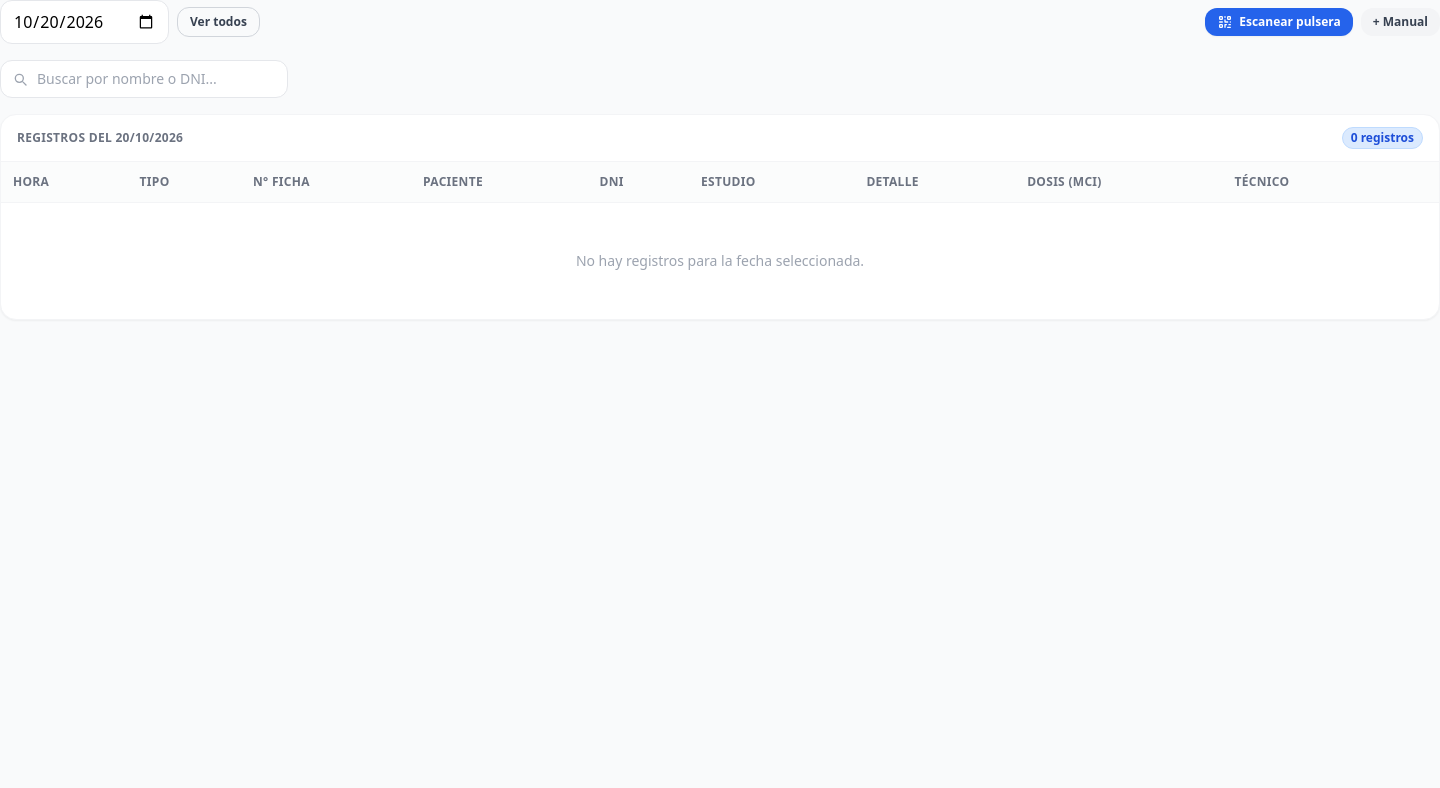
Scenario: TabPacientes -- 'No requiere marcación de radiofármaco' (CasilleroExcepcion): sólo el cuadradito activa la excepción › restauración válida: tildar y destildar sin cambiar nada más devuelve el radiofármaco y el lote elegidos
Click the button "+ Manual" at (1400,22), box top-left (1361, 8), bottom-right (1439, 36)
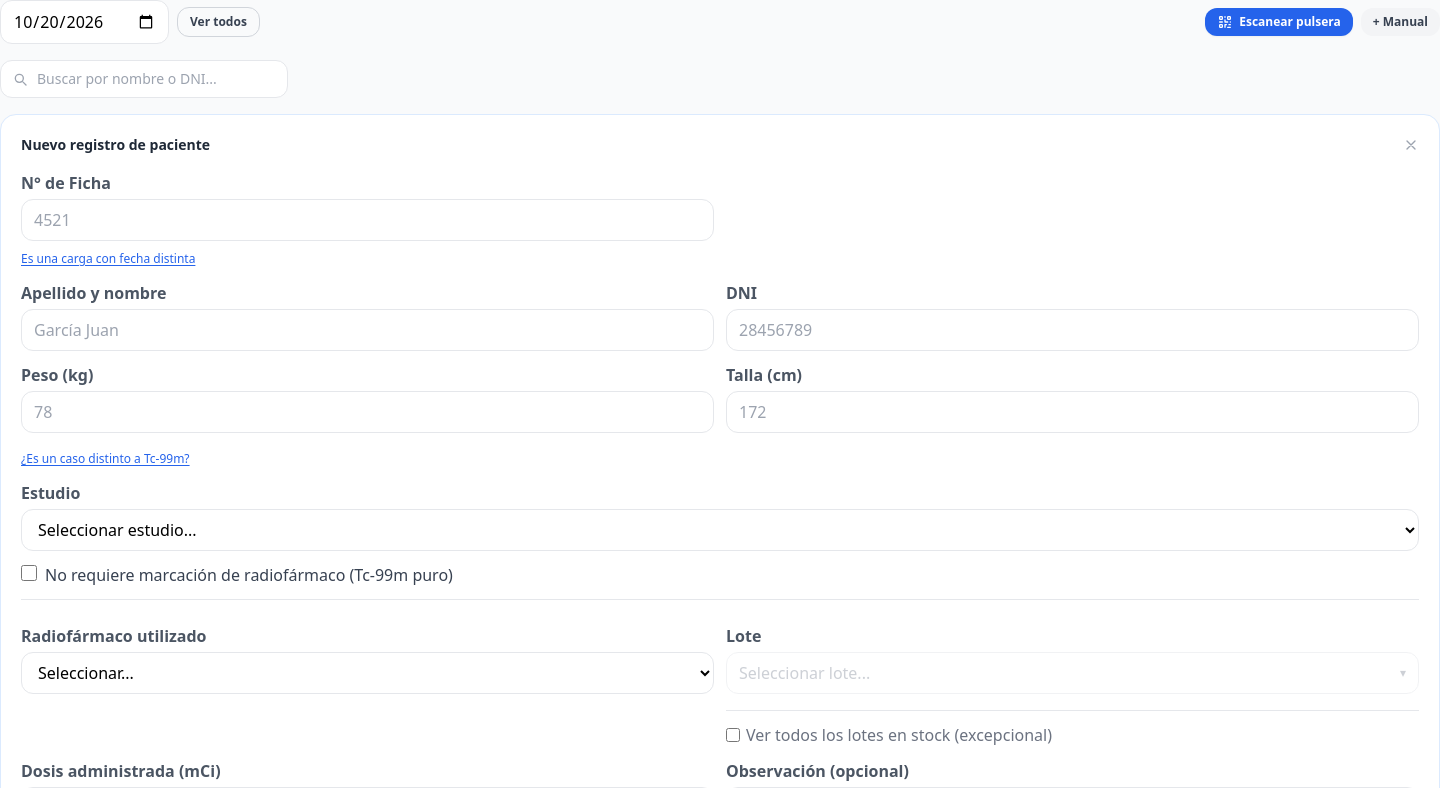
Select "MIBI (Sestamibi)" in the dropdown below "Radiofármaco utilizado" at (368,673), box top-left (21, 652), bottom-right (714, 694)
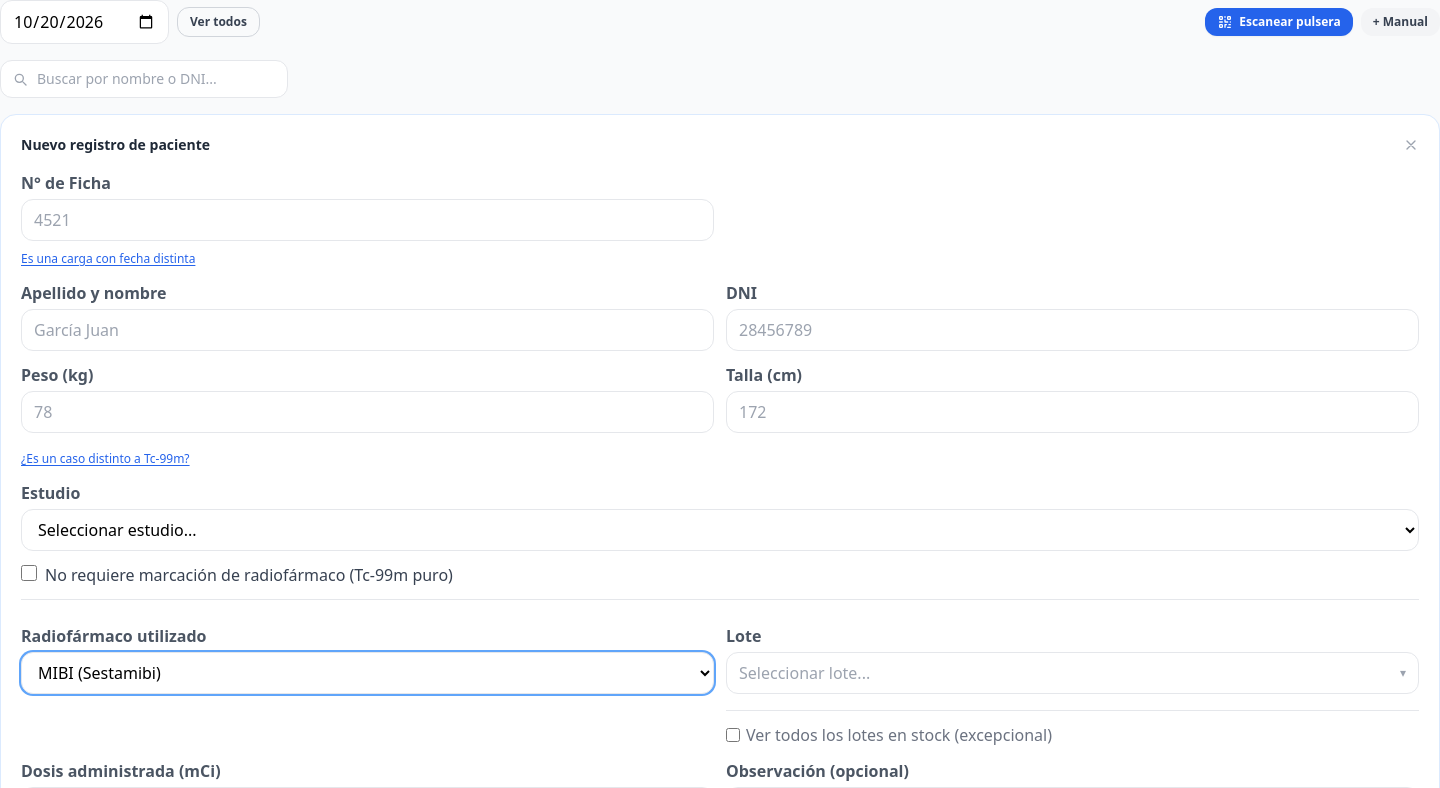
Click the dropdown labelled "lote" at (805,673), box top-left (726, 652), bottom-right (1419, 694)
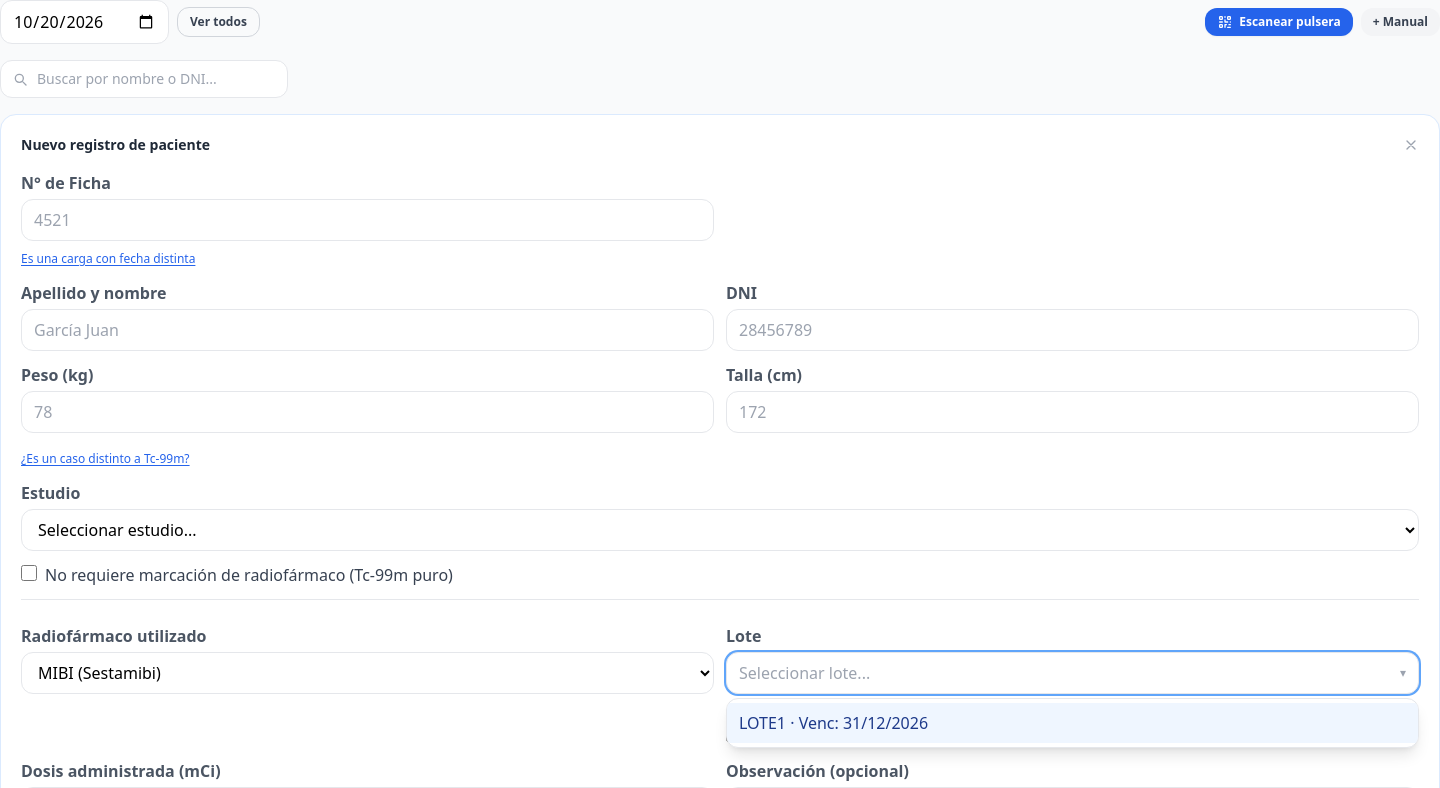
Click the option "LOTE1 · Venc: 31/12/2026" at (834,723), box top-left (727, 703), bottom-right (1418, 743)
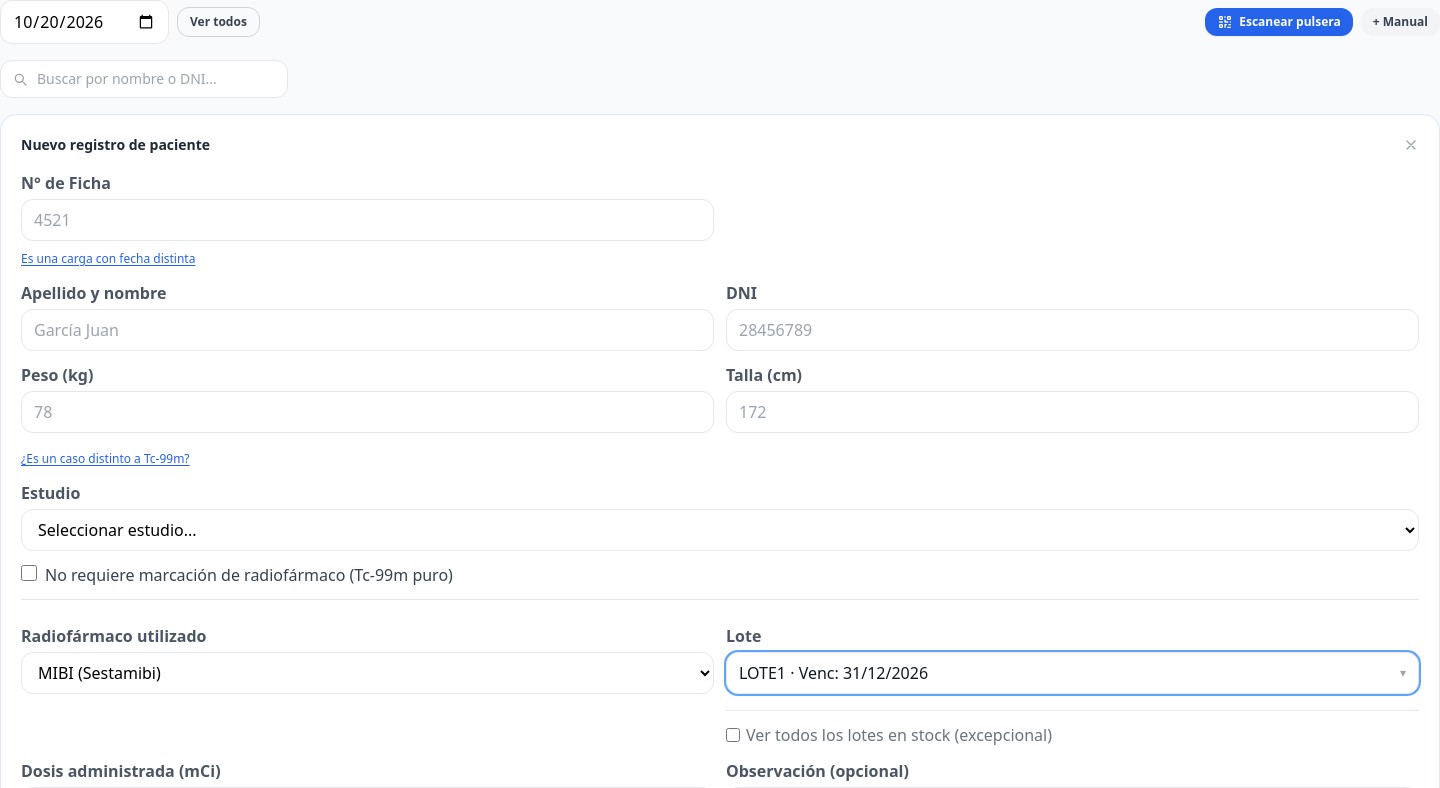
Expected: the dropdown labelled "LOTE" shows "LOTE1", top-left (726, 652), bottom-right (1419, 694)
Click the checkbox named "No requiere marcación de radiofármaco (Tc-99m puro)" at (29,573), box top-left (21, 565), bottom-right (37, 581)
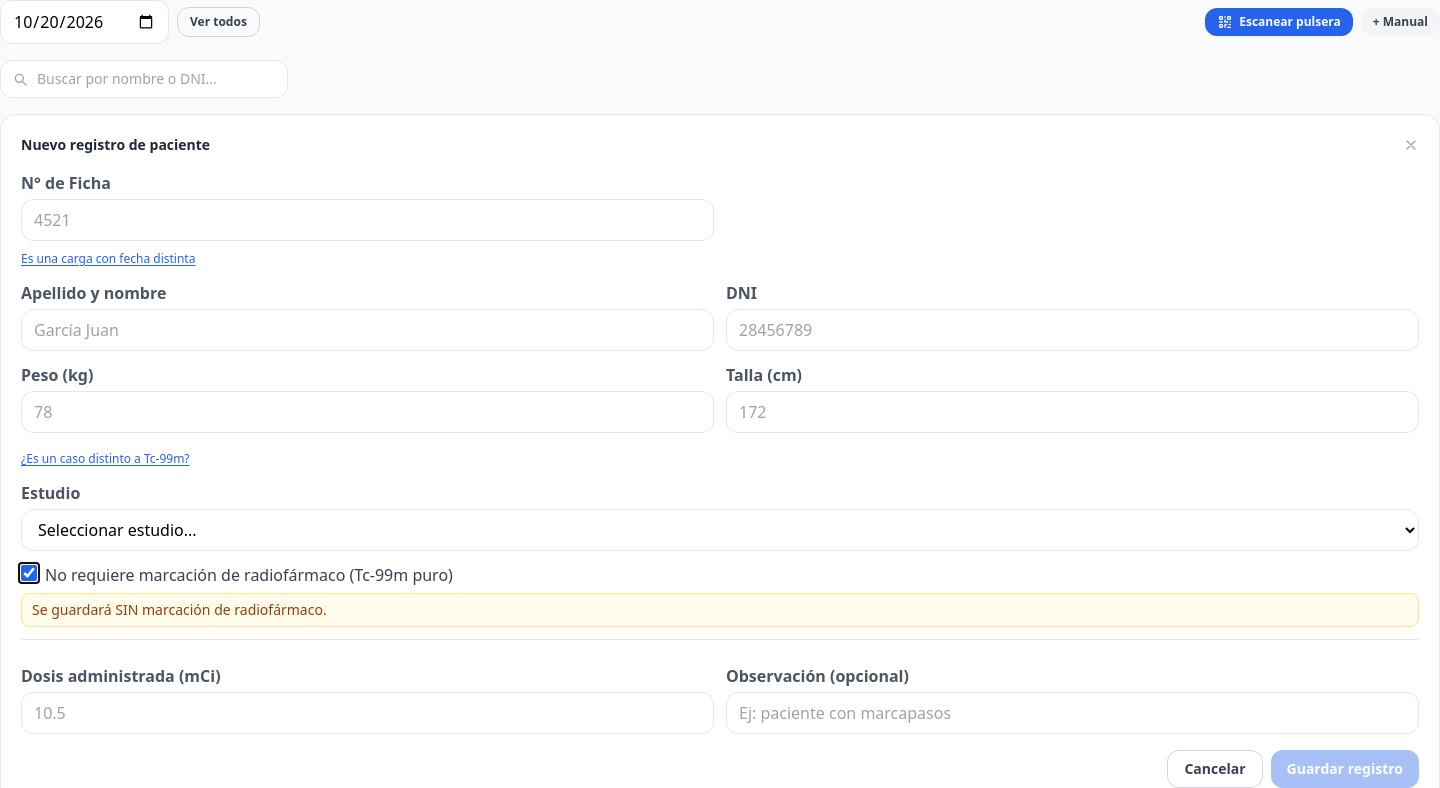
Click the checkbox named "No requiere marcación de radiofármaco (Tc-99m puro)" at (29,573), box top-left (21, 565), bottom-right (37, 581)
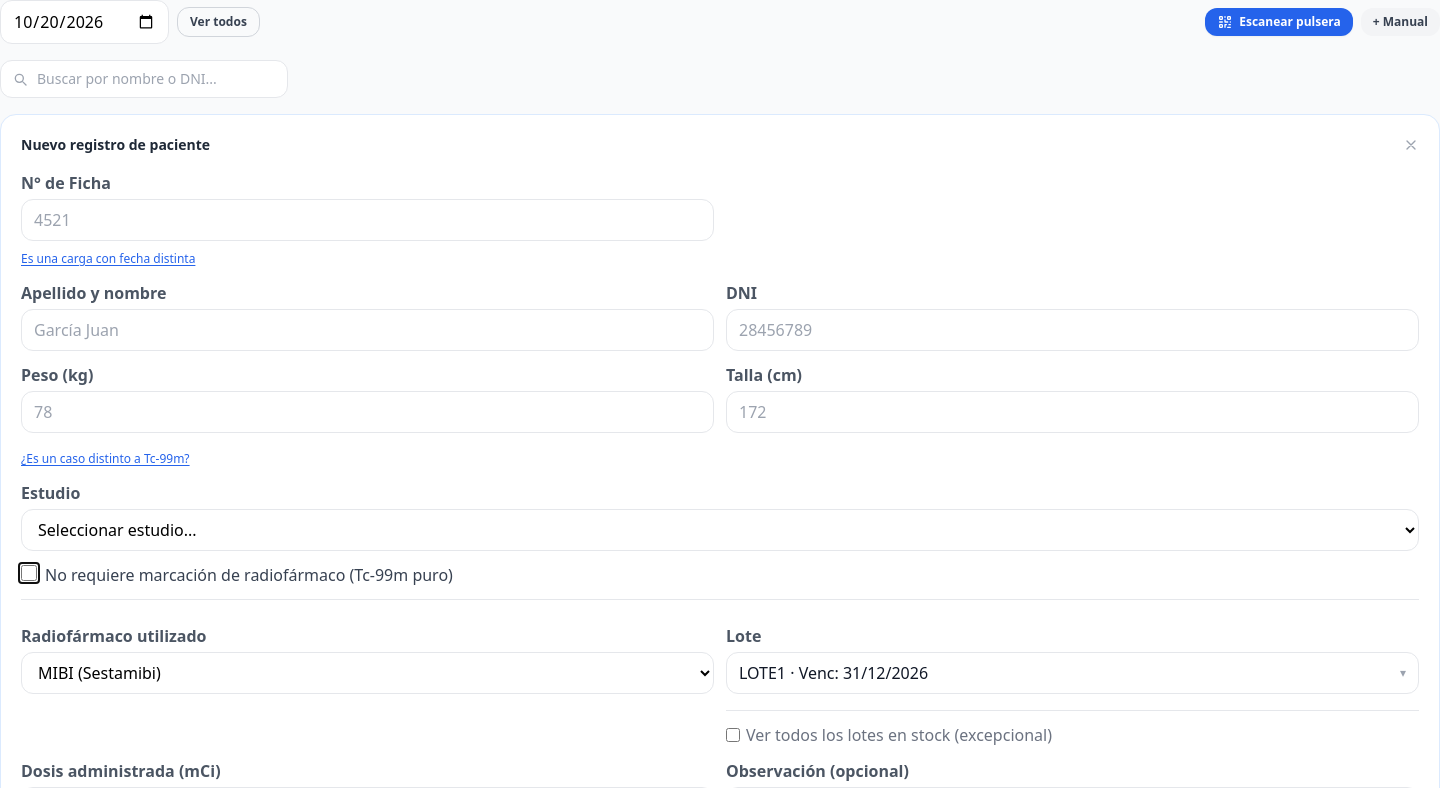
Expected: the dropdown labelled "LOTE" shows "LOTE1", top-left (726, 652), bottom-right (1419, 694)
